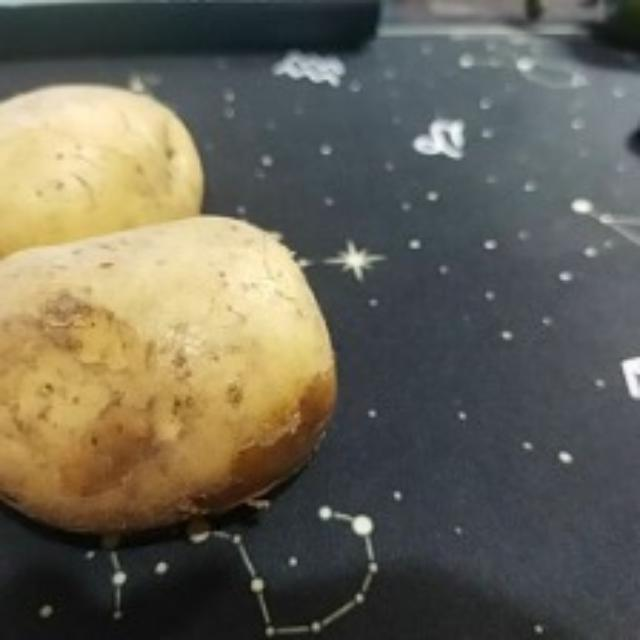Damaged potato: (2, 211, 344, 541)
Potato: (4, 74, 212, 320)
